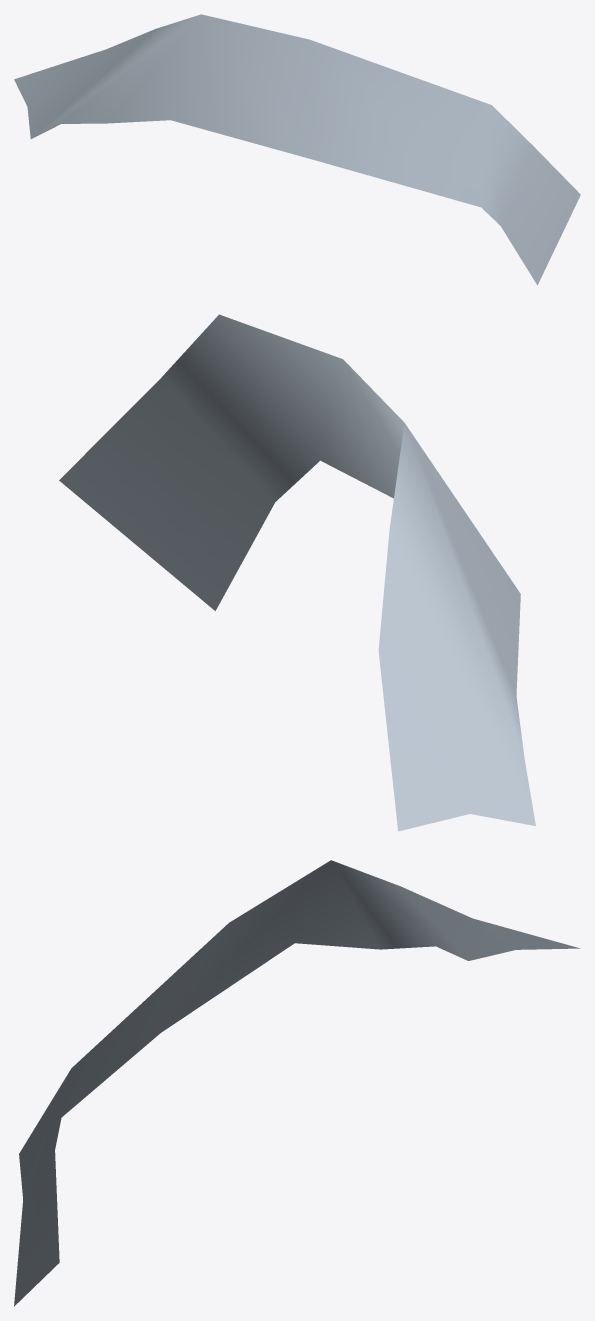
The model's file is superior-glenohumeral-ligament-l.glb.
The picture shows the model from 3 angles, top to bottom: view 1: azimuth 30°, elevation 25°; view 2: azimuth 150°, elevation 25°; view 3: azimuth 270°, elevation 25°; orthographic projection. The views are drawn at different scales.
Visible parts, largest first — view 1: Superior glenohumeral ligament.l; view 2: Superior glenohumeral ligament.l; view 3: Superior glenohumeral ligament.l.
Boxes of the visible parts, <box> form: Superior glenohumeral ligament.l: <box>14,14,580,285</box>; Superior glenohumeral ligament.l: <box>59,314,535,831</box>; Superior glenohumeral ligament.l: <box>14,860,580,1306</box>.
Size of the model in its own units: 0.0292 by 0.0167 by 0.0278.
